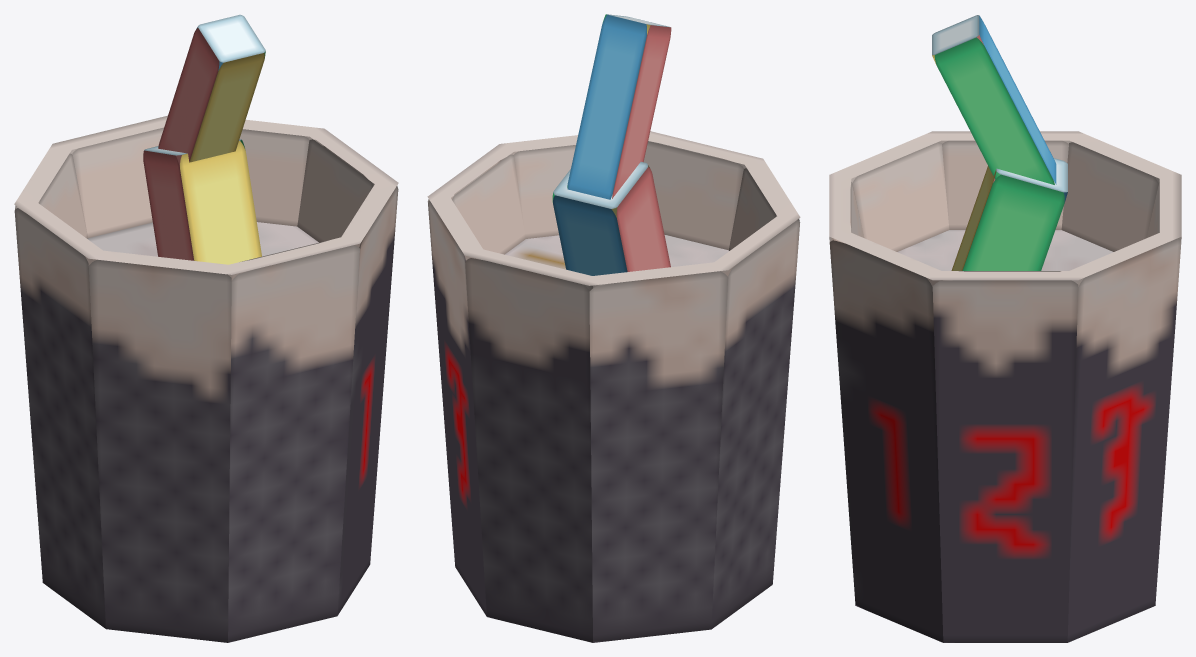
File: flesh-trash.fbx
3 renders of one model, left to right at view 1: azimuth 30°, elevation 25°; view 2: azimuth 150°, elevation 25°; view 3: azimuth 270°, elevation 25°, orthographic. The views are drawn at different scales.
Parts seen in each view (by area): view 1: trash can, trash; view 2: trash can, trash; view 3: trash can, trash.
Part boxes in pixels (<box>): trash can: <box>14,115,398,642</box>; trash: <box>143,14,265,264</box>; trash can: <box>427,131,800,642</box>; trash: <box>552,14,671,275</box>; trash can: <box>829,131,1181,642</box>; trash: <box>932,15,1067,270</box>.
Size of the model in its own units: 14.69 by 25.49 by 14.69.
Materials: 1 (1 with a texture image).
